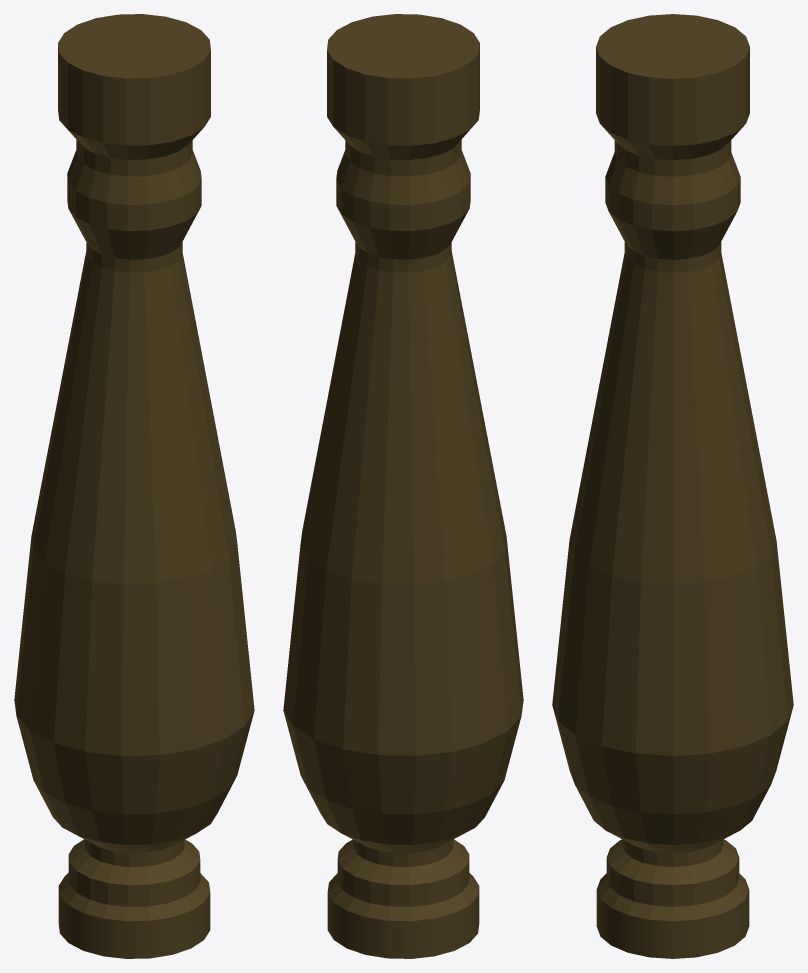
File: Banister.fbx
3 renders of one model, left to right at view 1: azimuth 30°, elevation 25°; view 2: azimuth 150°, elevation 25°; view 3: azimuth 270°, elevation 25°, orthographic.
Parts seen in each view (by area): view 1: pCylinder1; view 2: pCylinder1; view 3: pCylinder1.
Part boxes in pixels (left/top/right/bottom): pCylinder1: left=14, top=14, right=254, bottom=958; pCylinder1: left=283, top=14, right=523, bottom=958; pCylinder1: left=552, top=14, right=793, bottom=958.
Bounding box in the file's own units: 8.29 × 33.35 × 8.29.
